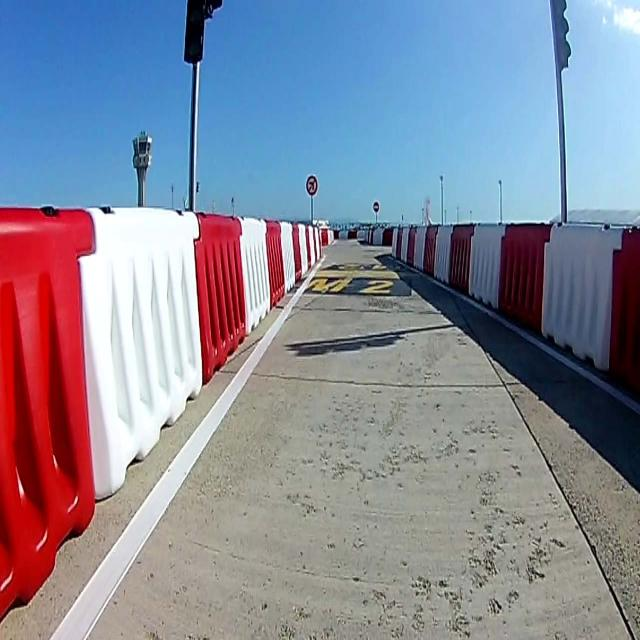girisyok: (373, 202, 379, 213)
soladonulmez: (306, 175, 318, 197)
